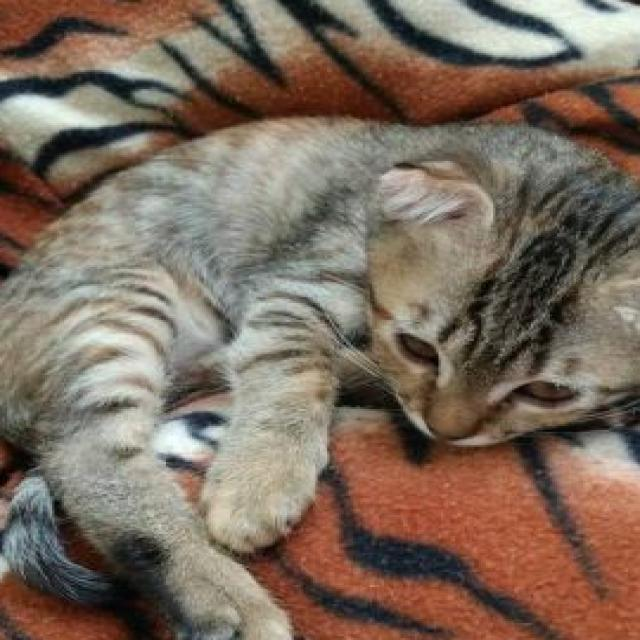Scottish Fold: (0, 108, 640, 640)
